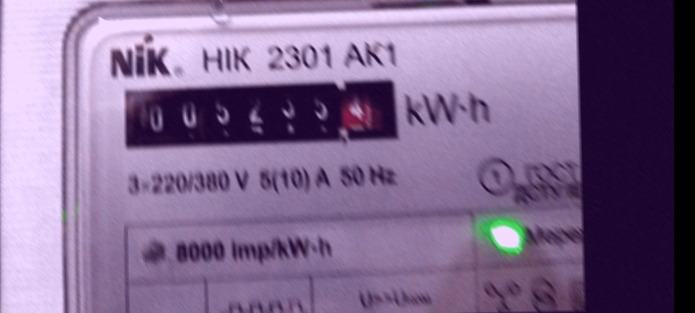0: (178, 97, 199, 130), (146, 102, 165, 133)
2: (244, 92, 266, 127)
3: (276, 89, 301, 123)
4: (345, 87, 368, 124)
5: (310, 87, 333, 124), (212, 94, 232, 127)
screen: (106, 66, 410, 161)
